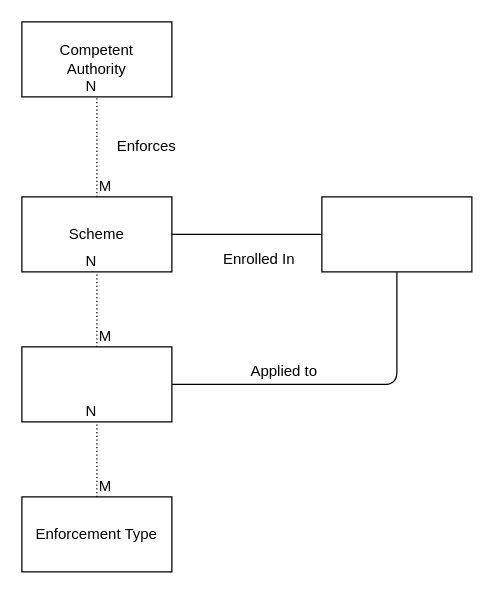
The diagram is 494 pixels wide and 594 high, and some of its shapes have lost their labels. The shapes that lost their labels are listed below. From the top down, each one's box as (x1, y1, x2, y2) in pixels, then its label:
(321, 196, 472, 272): Establishment
(21, 346, 172, 422): Enforcement
